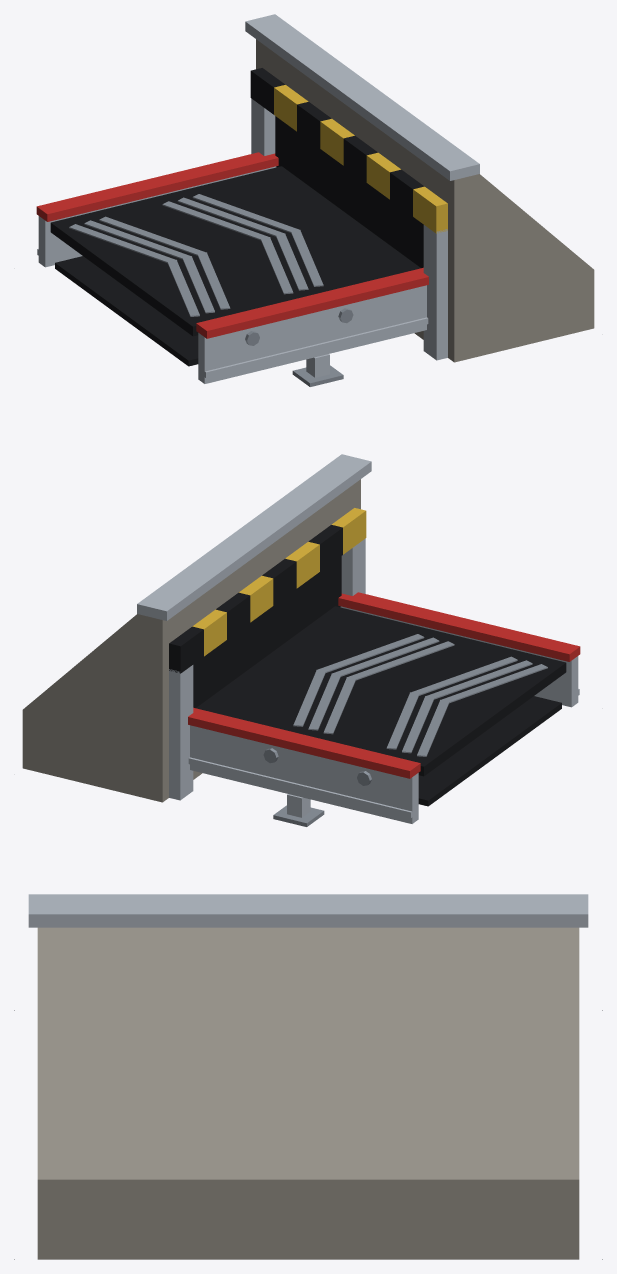
File: convoyeur_tunnel_entree_t3.glb
The picture shows the model from 3 angles, top to bottom: view 1: azimuth 30°, elevation 25°; view 2: azimuth 150°, elevation 25°; view 3: azimuth 270°, elevation 25°; orthographic projection. The views are drawn at different scales.
Visible parts, largest first — view 1: pieces_noir.030, pieces_gris_clair.016, bouche.012, pieces_rive_t3.006, bande_acier.048, pieces_jaune.024, pieces_acier.054; view 2: pieces_noir.030, pieces_gris_clair.016, bouche.012, pieces_rive_t3.006, bande_acier.048, pieces_jaune.024, pieces_acier.054; view 3: bouche.012, pieces_gris_clair.016.
Part boxes in pixels (left/top/right/bottom): pieces_noir.030: left=50, top=68, right=424, bottom=366; pieces_gris_clair.016: left=37, top=14, right=479, bottom=383; bouche.012: left=256, top=39, right=594, bottom=362; pieces_rive_t3.006: left=36, top=152, right=428, bottom=338; bande_acier.048: left=69, top=194, right=323, bottom=316; pieces_jaune.024: left=274, top=85, right=447, bottom=233; pieces_acier.054: left=245, top=308, right=353, bottom=386; pieces_noir.030: left=169, top=525, right=566, bottom=806; pieces_gris_clair.016: left=137, top=454, right=579, bottom=823; bouche.012: left=22, top=479, right=360, bottom=802; pieces_rive_t3.006: left=188, top=592, right=580, bottom=778; bande_acier.048: left=293, top=634, right=547, bottom=756; pieces_jaune.024: left=192, top=508, right=366, bottom=656; pieces_acier.054: left=263, top=748, right=371, bottom=826; bouche.012: left=37, top=927, right=579, bottom=1259; pieces_gris_clair.016: left=28, top=894, right=588, bottom=927.
Bounding box in the file's own units: 1 × 0.5 × 1.
